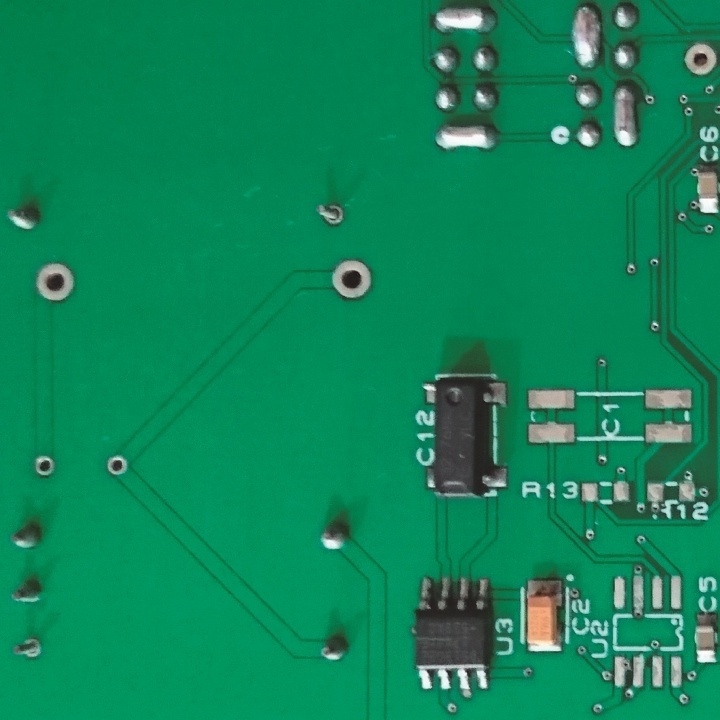F: (327, 258, 375, 303), (34, 260, 76, 306), (680, 39, 718, 79), (13, 632, 45, 662), (314, 201, 346, 228), (102, 452, 129, 481), (30, 453, 58, 478)
P: (430, 1, 501, 38), (431, 121, 504, 156), (571, 1, 605, 75), (610, 78, 640, 153)
